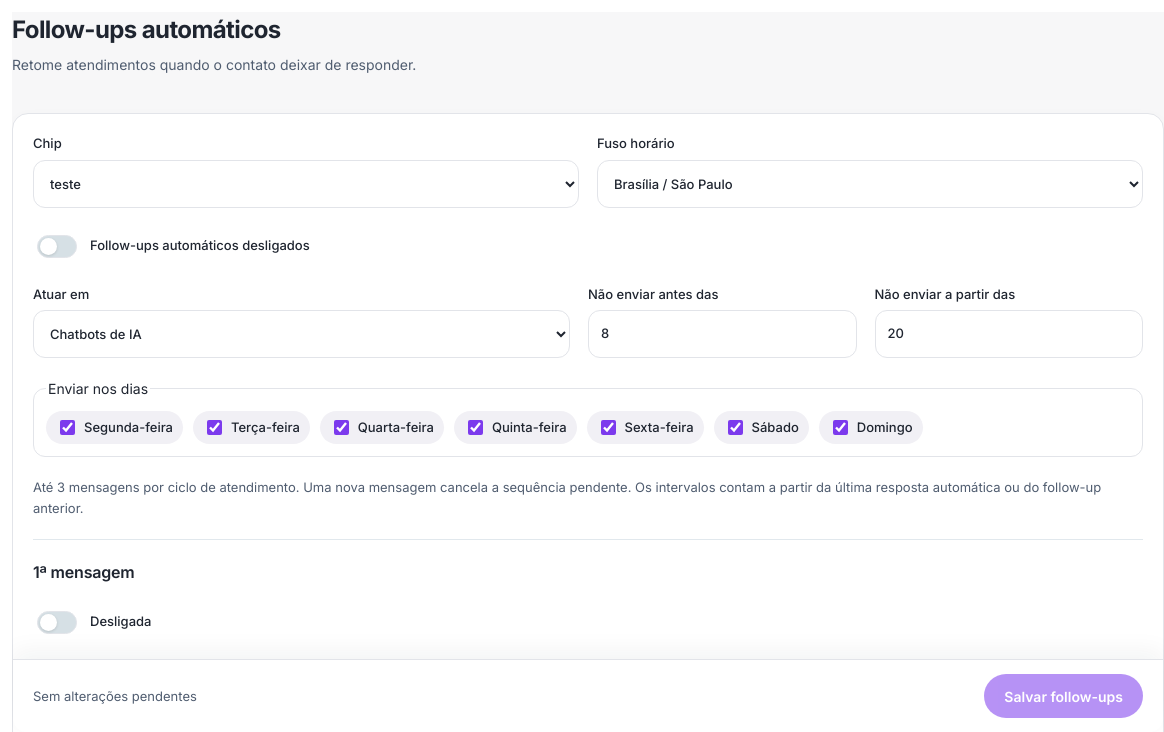
Test: follow-up carrega três mensagens desligadas e valida ativação
This screenshot has width=1164, height=732.
Expected: the dropdown labelled "Chip" shows "teste", [33,160,579,208]
Step 1. Click the switch labelled "Follow-ups automáticos desligados" → [57, 246], box [37,234,77,258]
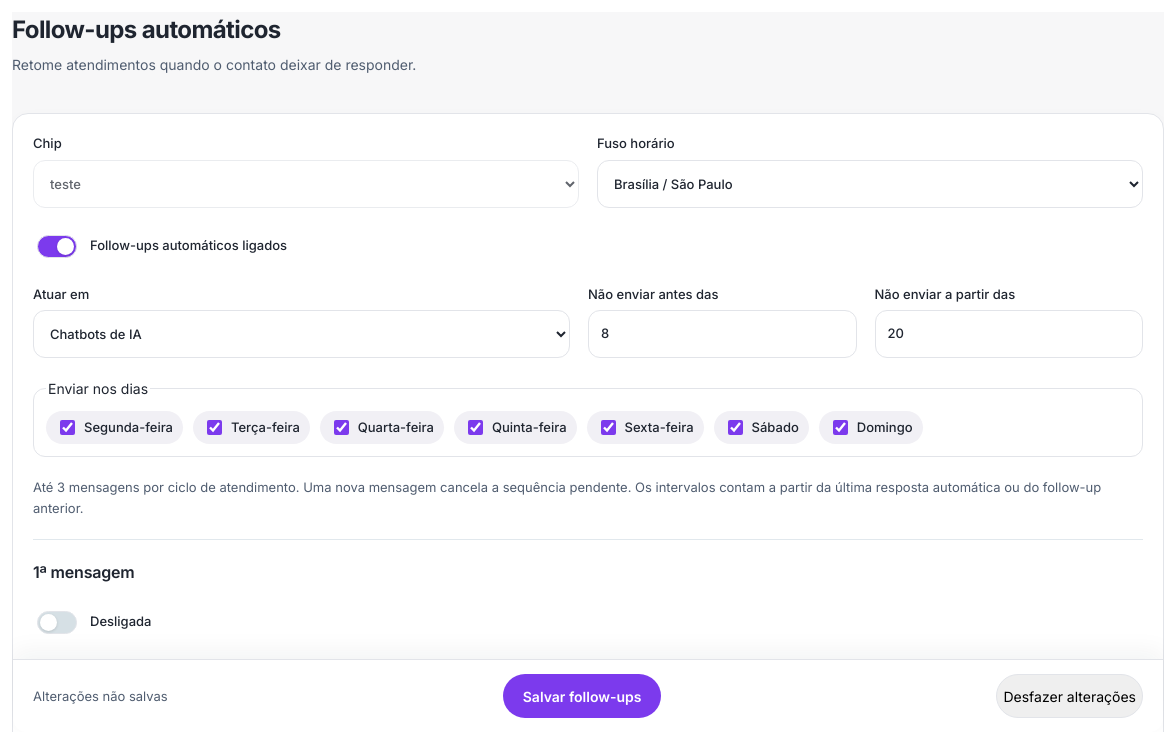
Step 2. Click the button "Salvar follow-ups" → [582, 696], box [503,674,662,718]
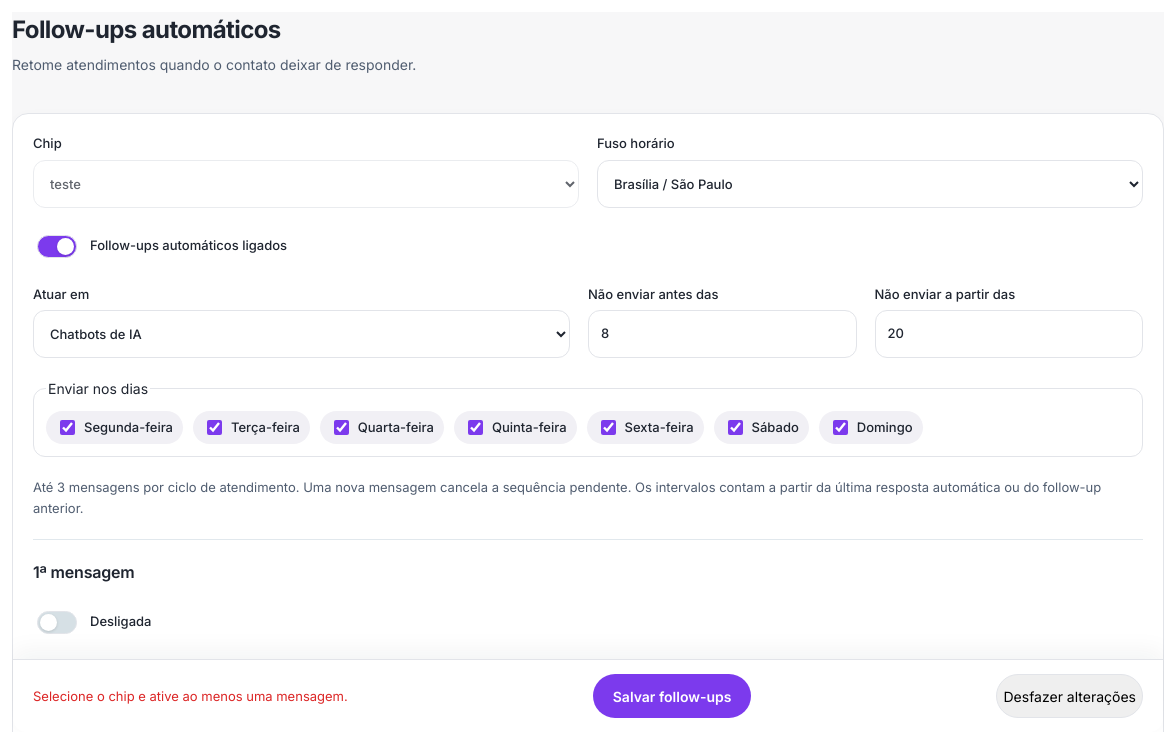
Result: the message shows "ative ao menos uma mensagem" at [33,687,348,703]
